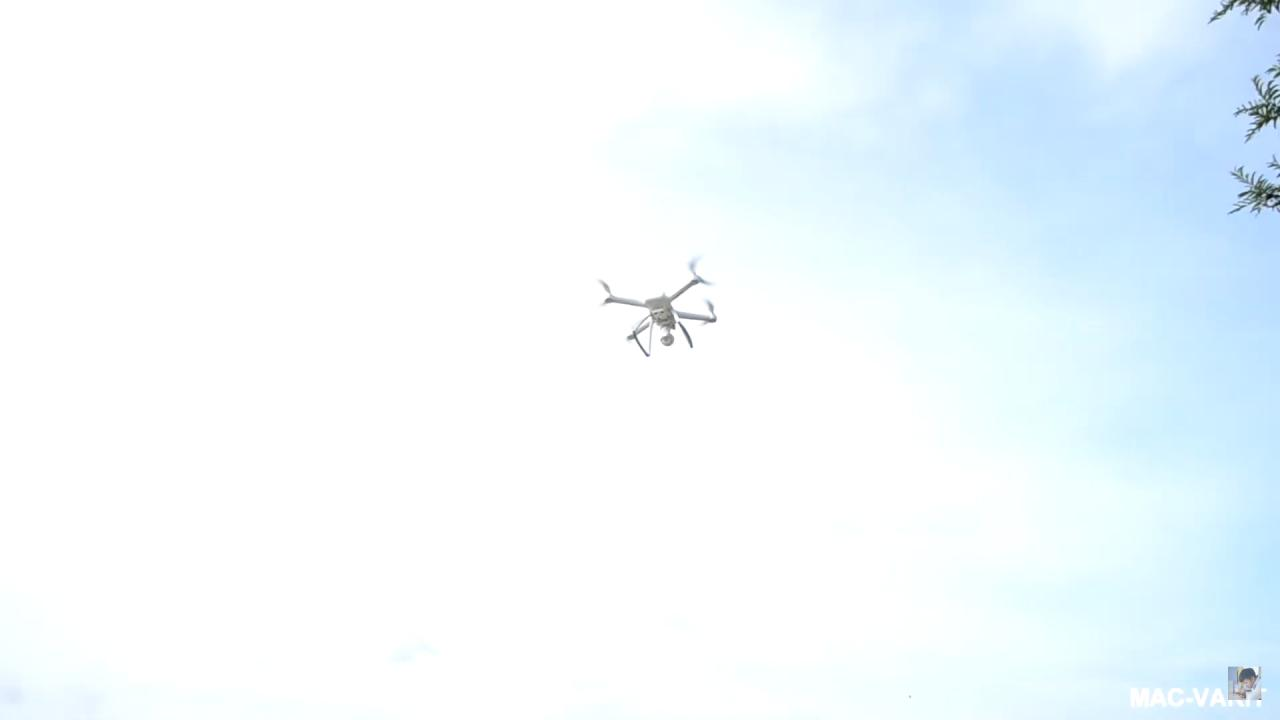Drone: (574, 247, 743, 371)
